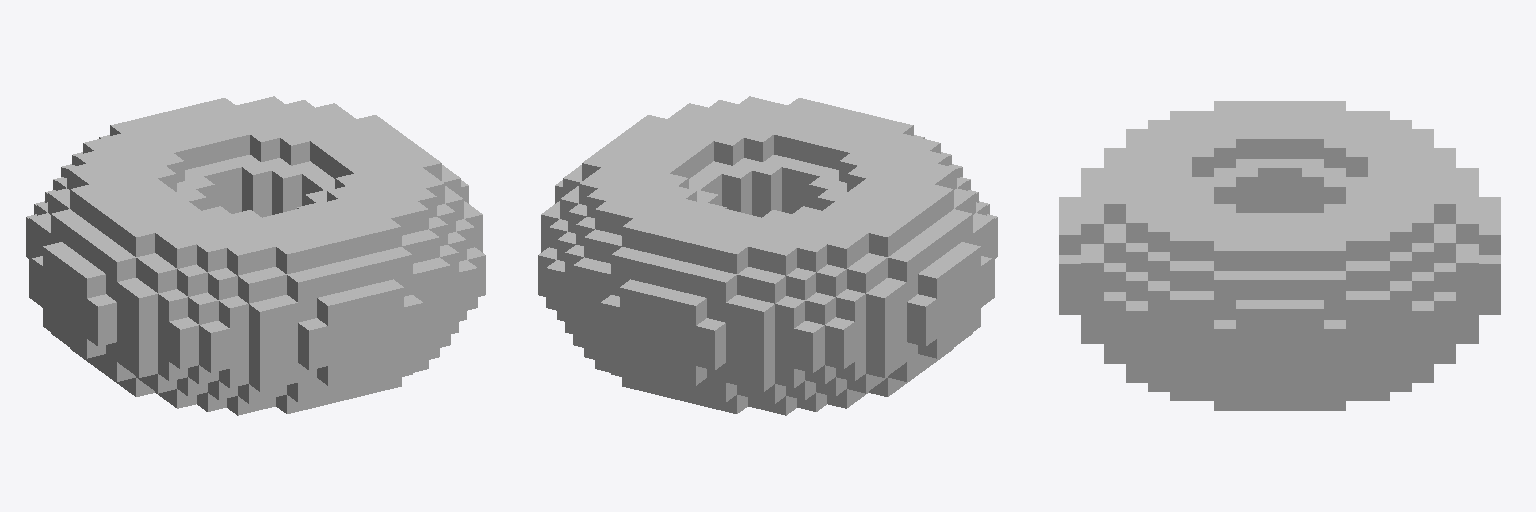
The model's file is donut.obj.
3 renders of one model, left to right at view 1: azimuth 30°, elevation 25°; view 2: azimuth 150°, elevation 25°; view 3: azimuth 270°, elevation 25°, orthographic.
Visible parts, largest first — view 1: object 1; view 2: object 1; view 3: object 1.
Part boxes in pixels (left/top/right/bottom): object 1: left=26, top=96, right=485, bottom=415; object 1: left=538, top=96, right=997, bottom=415; object 1: left=1059, top=101, right=1500, bottom=410.
Bounding box in the file's own units: 2 × 0.8 × 2.